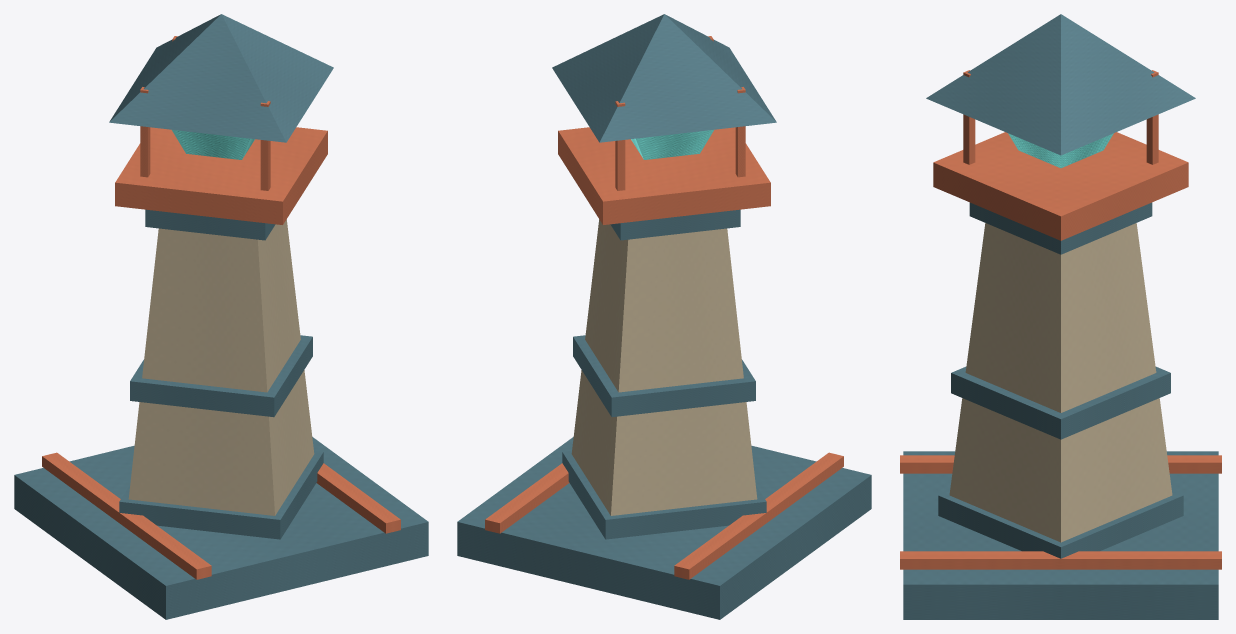
Rendered from atlas100-s049-a01.lod2.glb.
The picture shows the model from 3 angles, left to right: view 1: azimuth 30°, elevation 25°; view 2: azimuth 150°, elevation 25°; view 3: azimuth 270°, elevation 25°; orthographic projection. The views are drawn at different scales.
Parts seen in each view (by area): view 1: atlas100-s049-a01:part-003, atlas100-s049-a01:part-000, atlas100-s049-a01:part-013, atlas100-s049-a01:part-007, atlas100-s049-a01:part-005, atlas100-s049-a01:part-004, atlas100-s049-a01:part-001, atlas100-s049-a01:part-006, atlas100-s049-a01:part-002, atlas100-s049-a01:part-008, atlas100-s049-a01:part-010, atlas100-s049-a01:part-011; view 2: atlas100-s049-a01:part-003, atlas100-s049-a01:part-000, atlas100-s049-a01:part-013, atlas100-s049-a01:part-007, atlas100-s049-a01:part-005, atlas100-s049-a01:part-004, atlas100-s049-a01:part-001, atlas100-s049-a01:part-006, atlas100-s049-a01:part-002, atlas100-s049-a01:part-008, atlas100-s049-a01:part-012, atlas100-s049-a01:part-011; view 3: atlas100-s049-a01:part-003, atlas100-s049-a01:part-000, atlas100-s049-a01:part-013, atlas100-s049-a01:part-007, atlas100-s049-a01:part-005, atlas100-s049-a01:part-002, atlas100-s049-a01:part-004, atlas100-s049-a01:part-006, atlas100-s049-a01:part-001, atlas100-s049-a01:part-008, atlas100-s049-a01:part-010, atlas100-s049-a01:part-012.
Boxes of the visible parts, x1,y1,x2,y2 form: atlas100-s049-a01:part-003: (128, 219, 314, 515); atlas100-s049-a01:part-000: (14, 437, 428, 619); atlas100-s049-a01:part-013: (109, 14, 333, 142); atlas100-s049-a01:part-007: (115, 127, 327, 224); atlas100-s049-a01:part-005: (130, 335, 312, 417); atlas100-s049-a01:part-004: (119, 450, 323, 539); atlas100-s049-a01:part-001: (42, 452, 211, 579); atlas100-s049-a01:part-006: (145, 209, 275, 240); atlas100-s049-a01:part-002: (316, 463, 400, 533); atlas100-s049-a01:part-008: (172, 130, 254, 159); atlas100-s049-a01:part-010: (260, 101, 270, 190); atlas100-s049-a01:part-011: (140, 87, 150, 177); atlas100-s049-a01:part-003: (571, 219, 757, 515); atlas100-s049-a01:part-000: (457, 437, 871, 619); atlas100-s049-a01:part-013: (552, 14, 776, 142); atlas100-s049-a01:part-007: (558, 127, 770, 224); atlas100-s049-a01:part-005: (573, 335, 755, 417); atlas100-s049-a01:part-004: (562, 450, 766, 539); atlas100-s049-a01:part-001: (674, 452, 843, 579); atlas100-s049-a01:part-006: (610, 209, 740, 240); atlas100-s049-a01:part-002: (485, 463, 569, 533); atlas100-s049-a01:part-008: (631, 130, 713, 159); atlas100-s049-a01:part-012: (615, 101, 625, 190); atlas100-s049-a01:part-011: (735, 87, 745, 177); atlas100-s049-a01:part-003: (949, 223, 1172, 542); atlas100-s049-a01:part-000: (903, 451, 1218, 619); atlas100-s049-a01:part-013: (926, 14, 1195, 155); atlas100-s049-a01:part-007: (933, 132, 1188, 240); atlas100-s049-a01:part-005: (951, 366, 1170, 439); atlas100-s049-a01:part-002: (900, 551, 1221, 569); atlas100-s049-a01:part-004: (938, 490, 1183, 558); atlas100-s049-a01:part-006: (969, 202, 1152, 254); atlas100-s049-a01:part-001: (900, 455, 1221, 473); atlas100-s049-a01:part-008: (1008, 133, 1113, 168); atlas100-s049-a01:part-010: (963, 70, 975, 164); atlas100-s049-a01:part-012: (1146, 70, 1158, 164).
Size of the model in its own units: 2.1 by 3.96 by 2.14.
4 materials, 4 textured.
